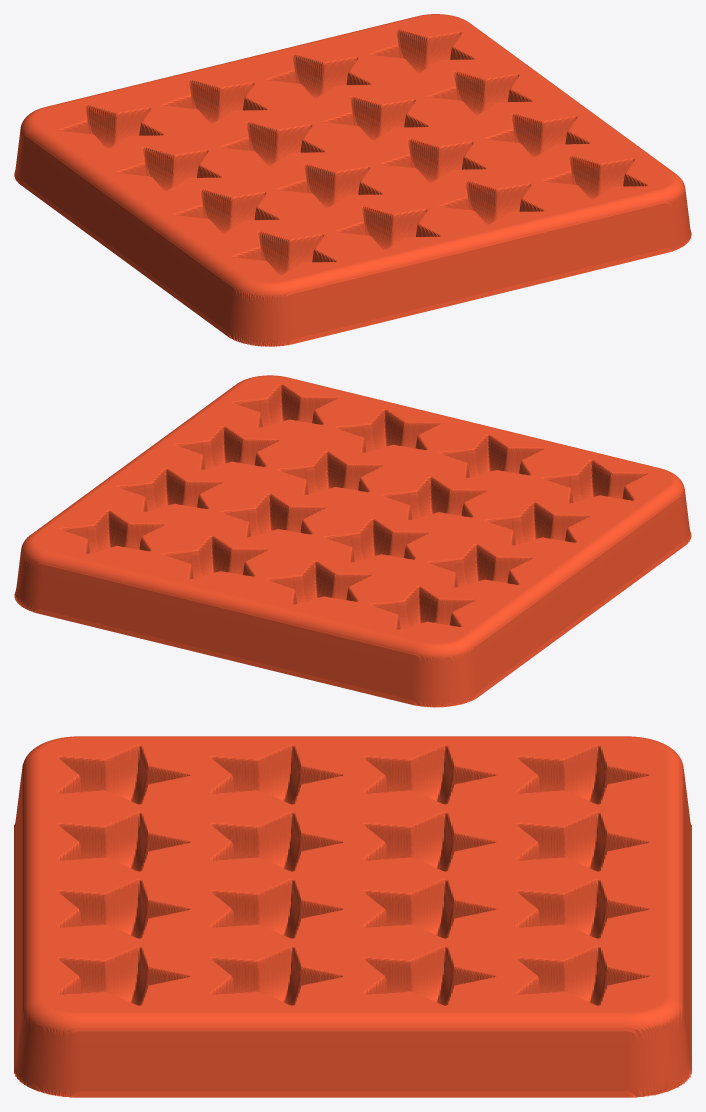
The model's file is mold.glb.
3 views of the same model, one above another, from view 1: azimuth 30°, elevation 25°; view 2: azimuth 150°, elevation 25°; view 3: azimuth 270°, elevation 25° (orthographic). The views are drawn at different scales.
Parts seen in each view (by area): view 1: geometry_0; view 2: geometry_0; view 3: geometry_0.
Boxes of the visible parts, x1,y1,x2,y2 form: geometry_0: [14, 14, 691, 346]; geometry_0: [14, 375, 691, 707]; geometry_0: [14, 736, 691, 1097].
Bounding box in the file's own units: 0.0972 × 0.0114 × 0.094.
